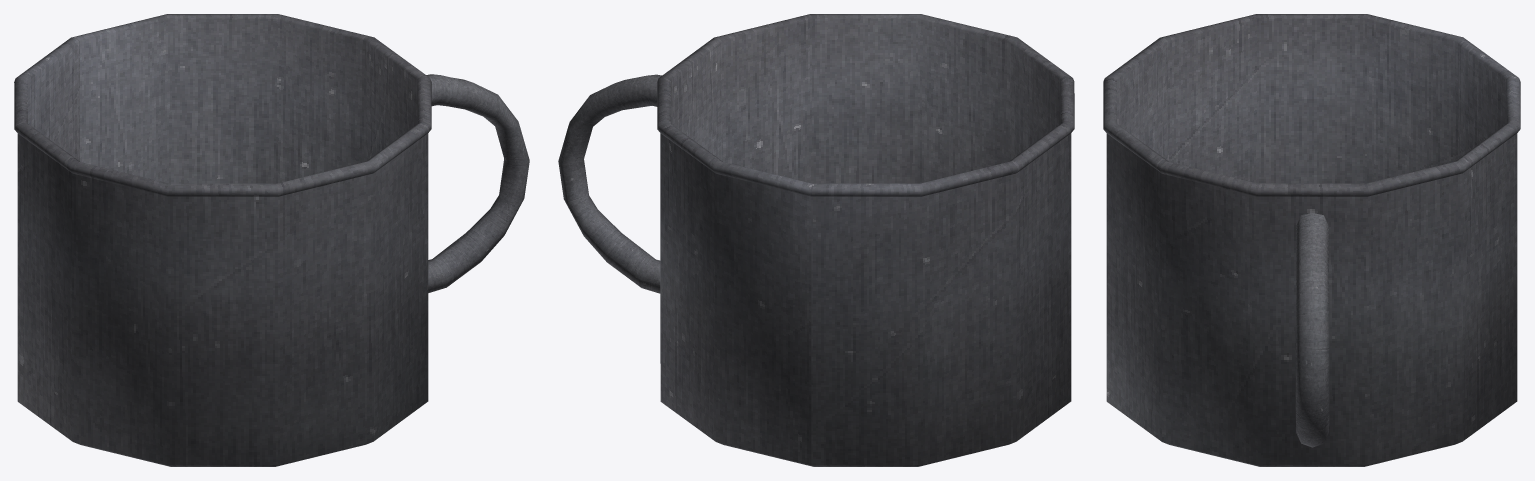
The model's file is CoffeeMug.glb.
The picture shows the model from 3 angles, left to right: view 1: azimuth 30°, elevation 25°; view 2: azimuth 150°, elevation 25°; view 3: azimuth 270°, elevation 25°; orthographic projection.
Parts seen in each view (by area): view 1: CoffeeMug; view 2: CoffeeMug; view 3: CoffeeMug.
Boxes of the visible parts, x1,y1,x2,y2 form: CoffeeMug: (14,14,529,466); CoffeeMug: (558,14,1074,466); CoffeeMug: (1103,14,1520,466).
Size of the model in its own units: 0.1956 by 0.1097 by 0.1454.
1 material, 1 textured.
